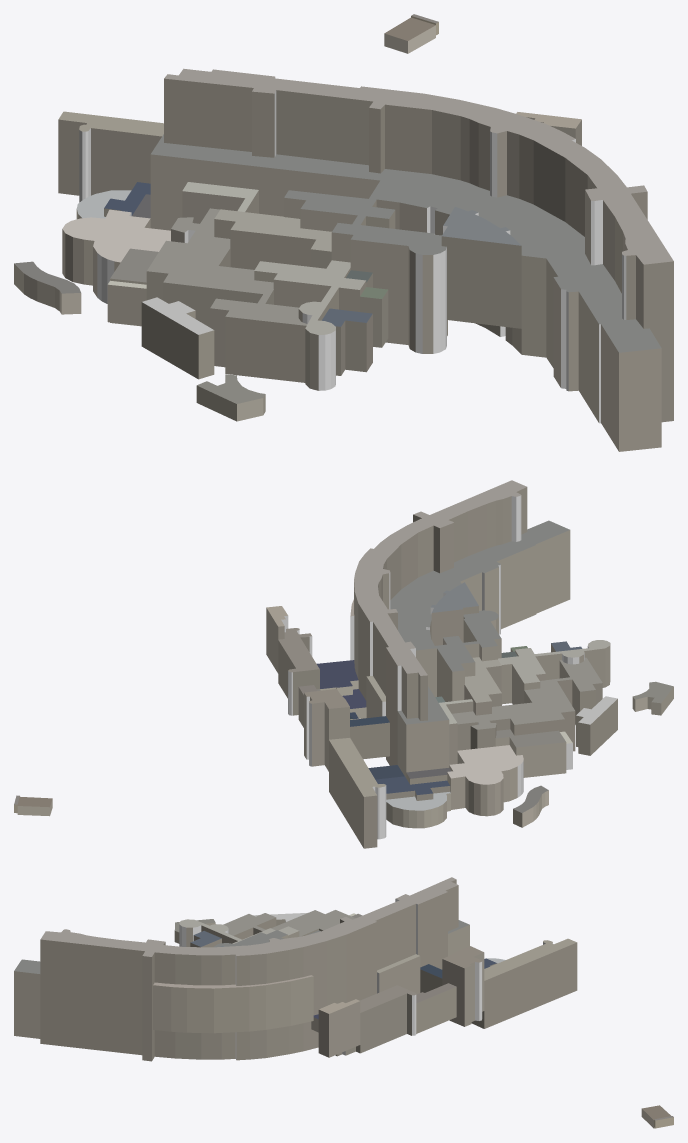
3 renders of one model, top to bottom at view 1: azimuth 30°, elevation 25°; view 2: azimuth 150°, elevation 25°; view 3: azimuth 270°, elevation 25°, orthographic. The views are drawn at different scales.
Visible parts, largest first — view 1: tuile; view 2: tuile; view 3: tuile.
Boxes of the visible parts, x1,y1,x2,y2 form: tuile: (14, 14, 673, 451); tuile: (14, 480, 673, 848); tuile: (14, 877, 673, 1128).
Size of the model in its own units: 211 by 61.32 by 317.
